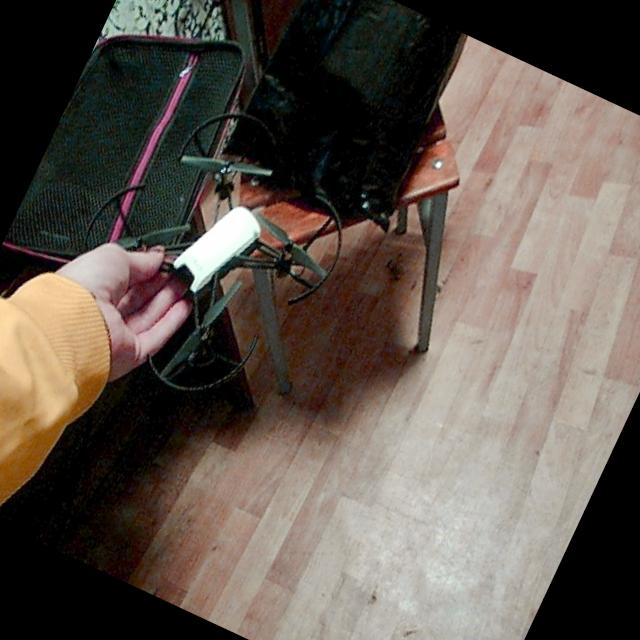drone: (28, 62, 404, 458)
